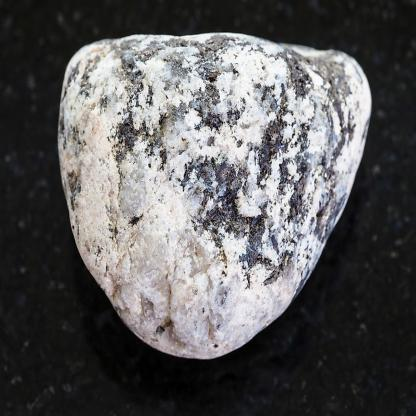Igneous_Diorite: (123, 53, 316, 308)
